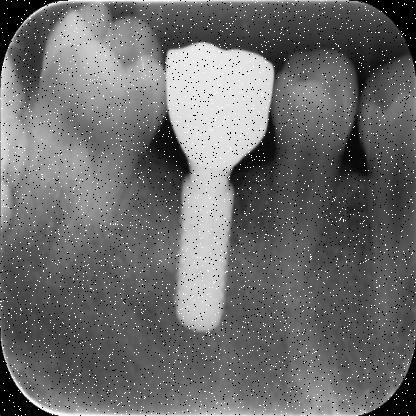ITI: (166, 174, 244, 338)
